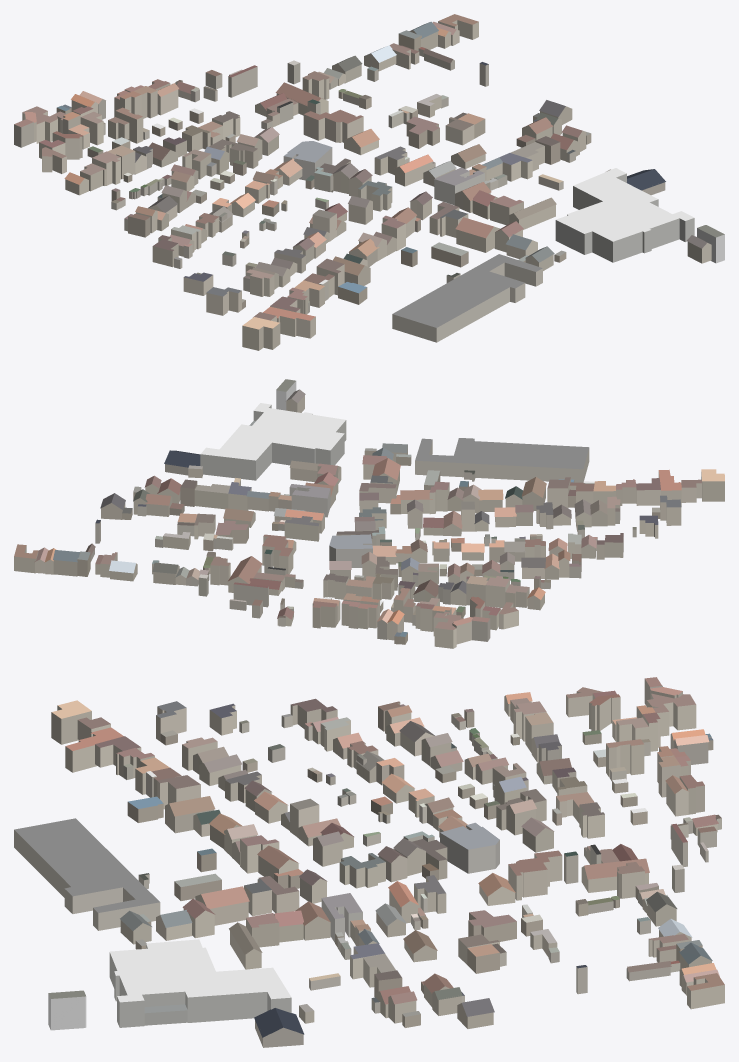
3 renders of one model, top to bottom at view 1: azimuth 30°, elevation 25°; view 2: azimuth 150°, elevation 25°; view 3: azimuth 270°, elevation 25°, orthographic. The views are drawn at different scales.
Parts seen in each view (by area): view 1: tuile; view 2: tuile; view 3: tuile.
Boxes of the visible parts, x1,y1,x2,y2 form: tuile: (14, 14, 724, 350); tuile: (14, 379, 724, 648); tuile: (14, 677, 724, 1047).
Bounding box in the file's own units: 268 × 34.18 × 272.
